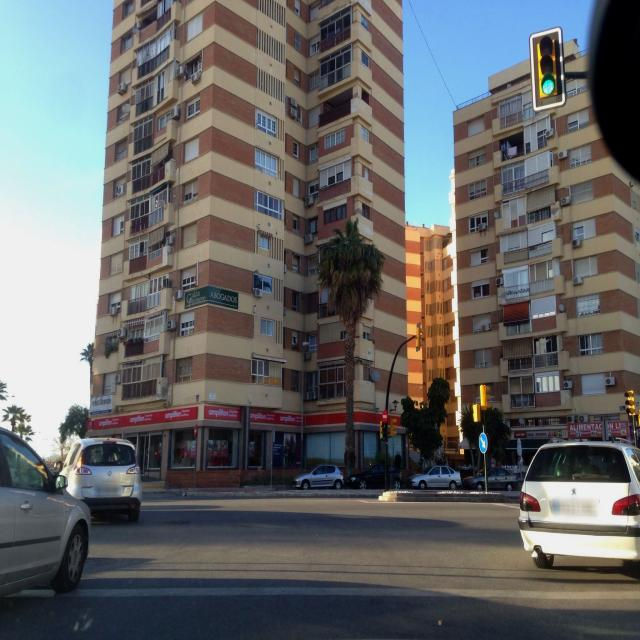car: (0, 407, 91, 636), (518, 438, 640, 580), (61, 437, 143, 522), (462, 466, 521, 492), (292, 463, 345, 490), (347, 464, 401, 490), (408, 464, 462, 490)
